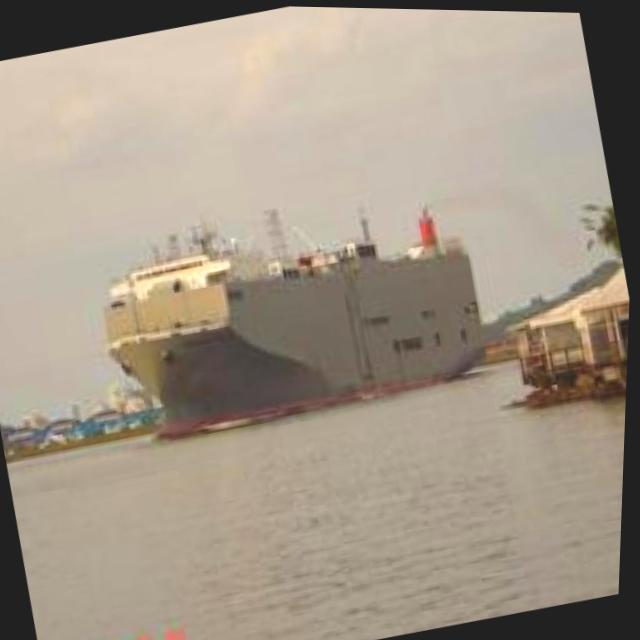ship2: (108, 202, 489, 440)
